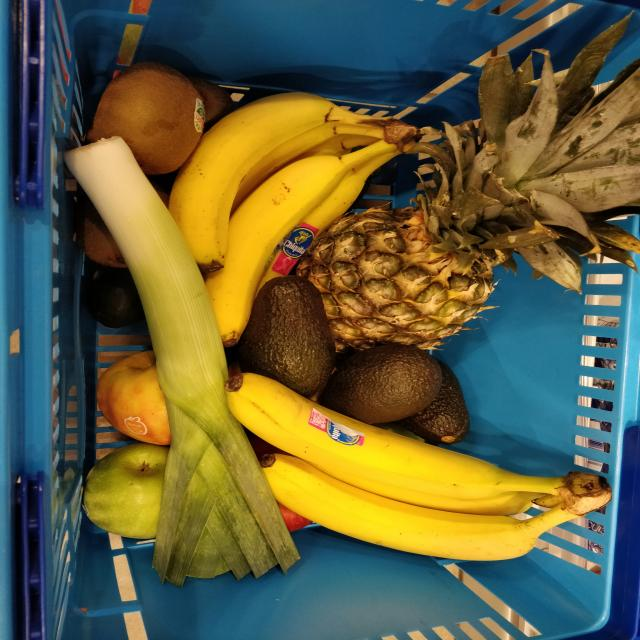Avocado: (318, 346, 471, 446), (237, 276, 335, 402)
Banana: (226, 371, 601, 563), (160, 97, 400, 352)
